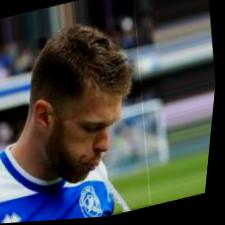spitting: (0, 0, 172, 224)
